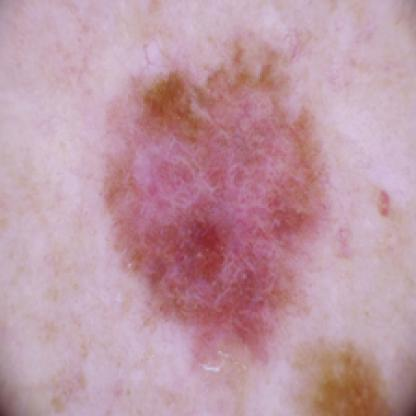Skin_Cancer-Malignant: (95, 43, 323, 362)
